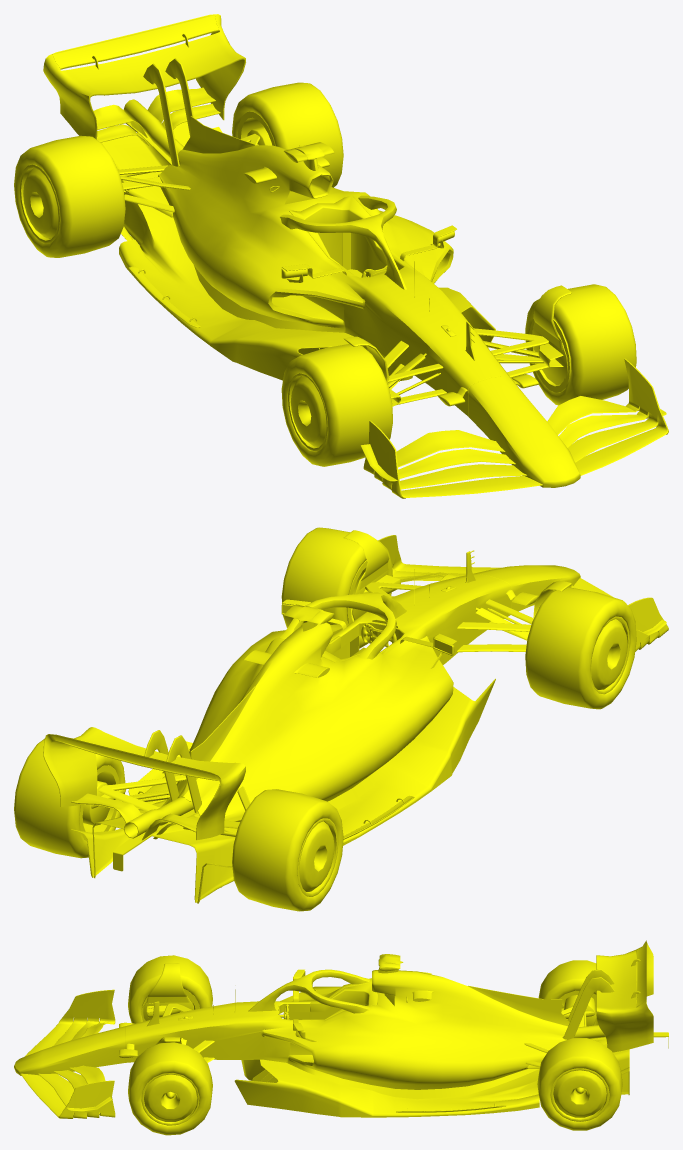
File: F1PS_F1_Car_V11_Rev3.glb
3 renders of one model, top to bottom at view 1: azimuth 30°, elevation 25°; view 2: azimuth 150°, elevation 25°; view 3: azimuth 270°, elevation 25°, orthographic. The views are drawn at different scales.
Parts seen in each view (by area): view 1: F1PS_F1_Car_Customizable, F1PS_F1_Car_Static; view 2: F1PS_F1_Car_Customizable, F1PS_F1_Car_Static; view 3: F1PS_F1_Car_Customizable, F1PS_F1_Car_Static.
Boxes of the visible parts, x1=… form: F1PS_F1_Car_Customizable: x1=23, y1=14, x2=668, y2=498; F1PS_F1_Car_Static: x1=14, y1=34, x2=636, y2=466; F1PS_F1_Car_Customizable: x1=43, y1=535, x2=668, y2=891; F1PS_F1_Car_Static: x1=14, y1=527, x2=636, y2=911; F1PS_F1_Car_Customizable: x1=14, y1=940, x2=653, y2=1121; F1PS_F1_Car_Static: x1=119, y1=954, x2=668, y2=1135.
Size of the model in its own units: 2.2 by 1.16 by 5.52.
Materials: 2 (2 with a texture image).
